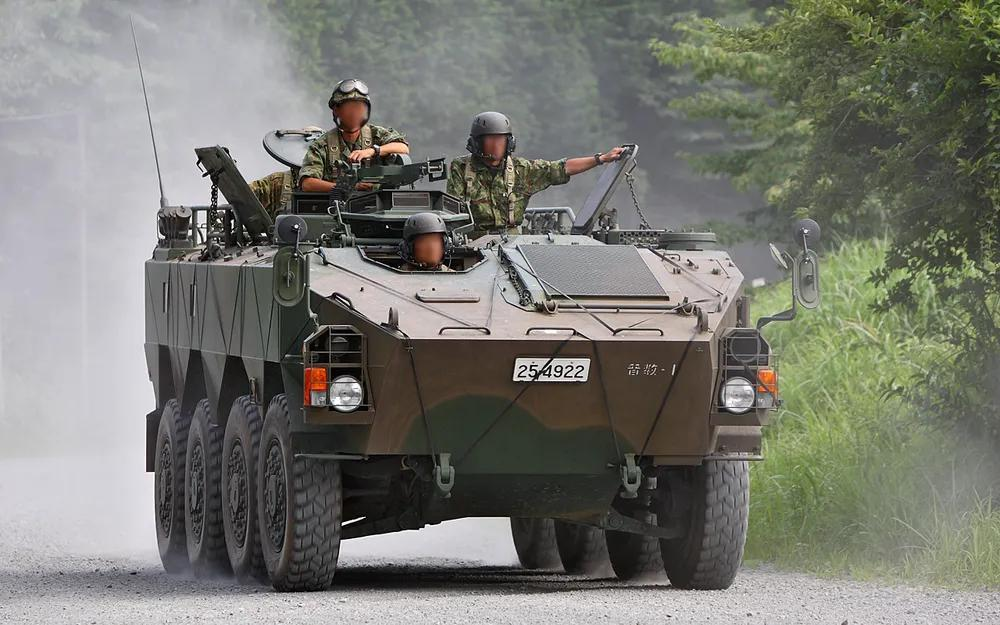MIL_IFV: (131, 78, 823, 592)
